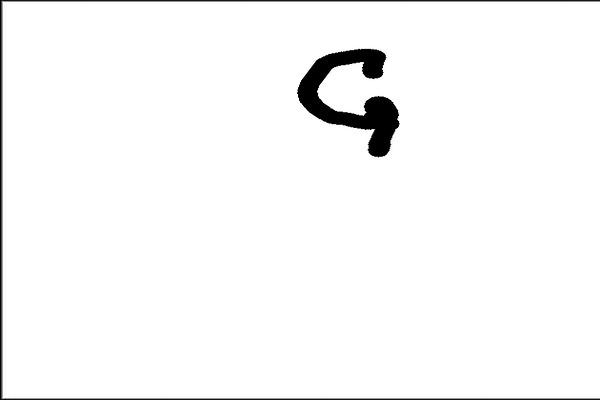G: (294, 44, 404, 160)
